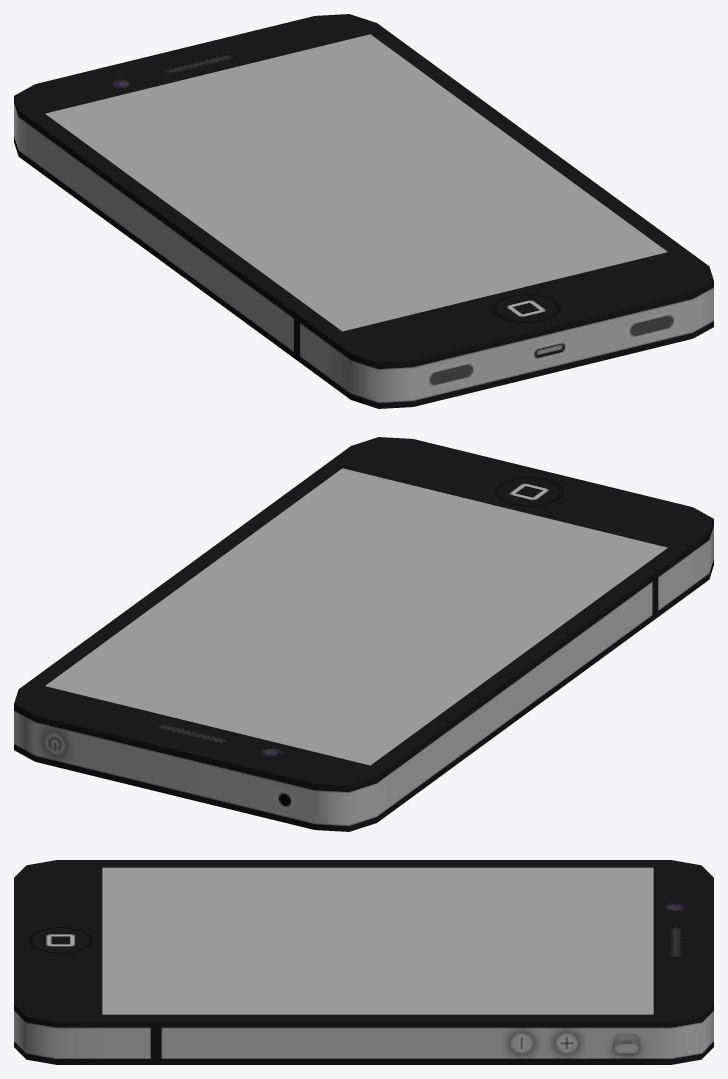
The model's file is mobile_phone0.fbx.
3 views of the same model, one above another, from view 1: azimuth 30°, elevation 25°; view 2: azimuth 150°, elevation 25°; view 3: azimuth 270°, elevation 25° (orthographic). The views are drawn at different scales.
Parts seen in each view (by area): view 1: mobile_phone0_mesh; view 2: mobile_phone0_mesh; view 3: mobile_phone0_mesh.
Part boxes in pixels (x1,y1,x2,y2): mobile_phone0_mesh: [14, 14, 713, 408]; mobile_phone0_mesh: [14, 437, 713, 831]; mobile_phone0_mesh: [14, 860, 713, 1064].
Size of the model in its own units: 0.0824 by 0.0101 by 0.1505.
